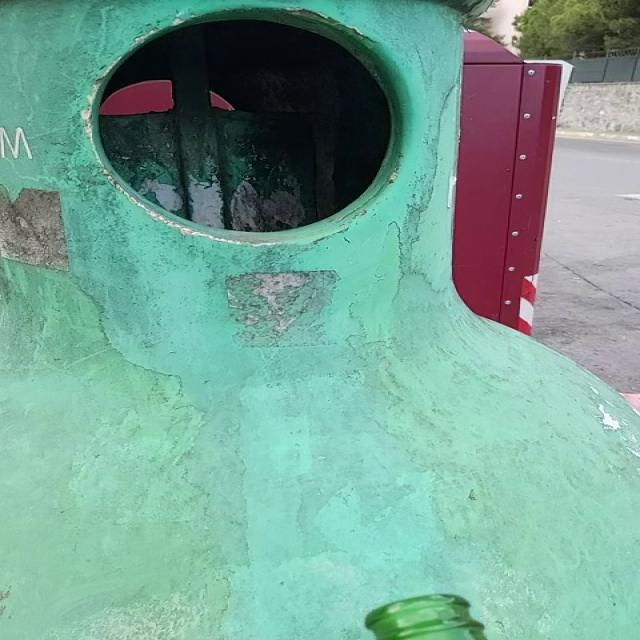glass: (365, 596, 487, 640)
